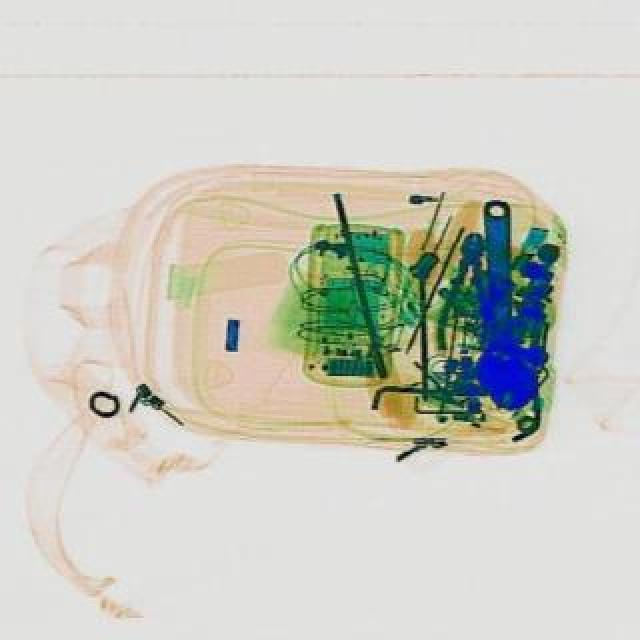scissors: (466, 198, 536, 412)
wrench: (430, 228, 500, 352)
